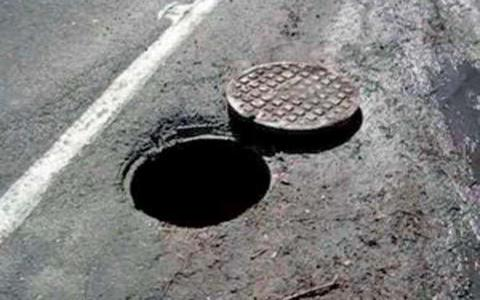open manhole: (109, 127, 278, 241)
